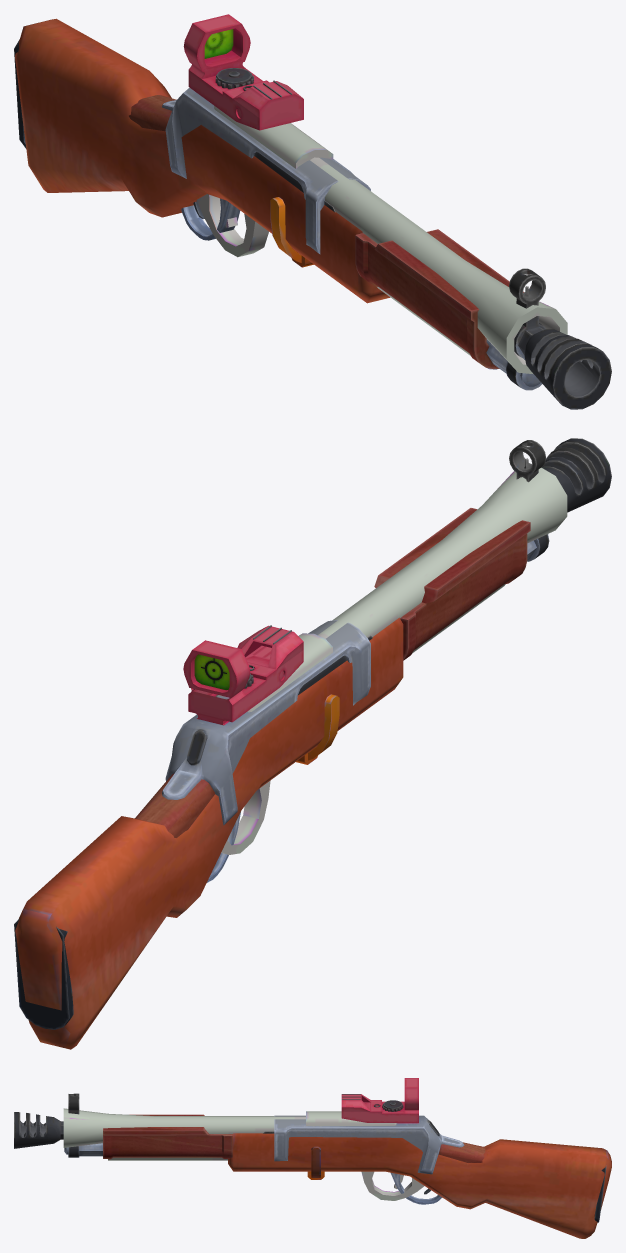
The model's file is Shotgun_2.fbx.
3 views of the same model, one above another, from view 1: azimuth 30°, elevation 25°; view 2: azimuth 150°, elevation 25°; view 3: azimuth 270°, elevation 25° (orthographic). The views are drawn at different scales.
Parts seen in each view (by area): view 1: ShotgunDef, PF_Shotgun_Skin_01, pump, Holosight; view 2: ShotgunDef, PF_Shotgun_Skin_01, pump, Holosight; view 3: ShotgunDef, PF_Shotgun_Skin_01, pump, Holosight.
Boxes of the visible parts, bbox=[...] form: ShotgunDef: bbox=[15, 18, 567, 374]; PF_Shotgun_Skin_01: bbox=[14, 39, 611, 409]; pump: bbox=[324, 200, 523, 368]; Holosight: bbox=[183, 14, 303, 130]; ShotgunDef: bbox=[15, 467, 567, 1049]; PF_Shotgun_Skin_01: bbox=[14, 438, 611, 1029]; pump: bbox=[367, 508, 530, 660]; Holosight: bbox=[183, 625, 303, 725]; ShotgunDef: bbox=[63, 1108, 611, 1238]; PF_Shotgun_Skin_01: bbox=[14, 1093, 606, 1222]; pump: bbox=[103, 1114, 274, 1159]; Holosight: bbox=[341, 1078, 418, 1123].
Bounding box in the file's own units: 2.01 × 8.68 × 30.89.
Materials: 2 (2 with a texture image).
